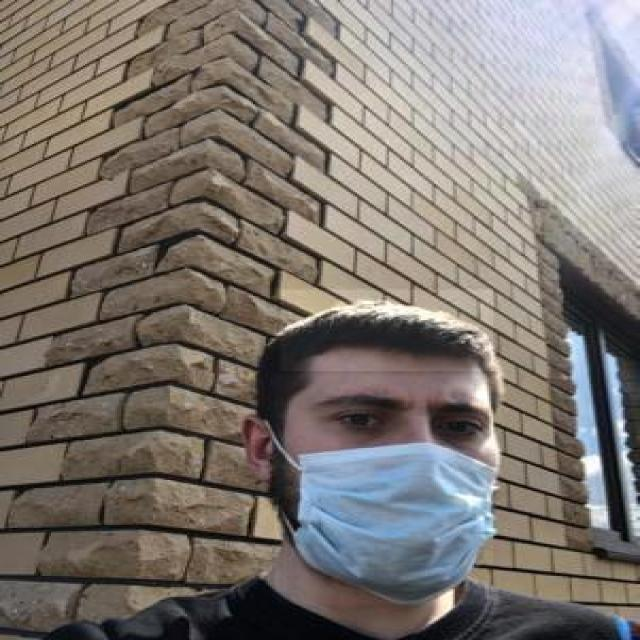face_mask: (274, 374, 496, 606)
head_nohelmet: (280, 290, 496, 372)
